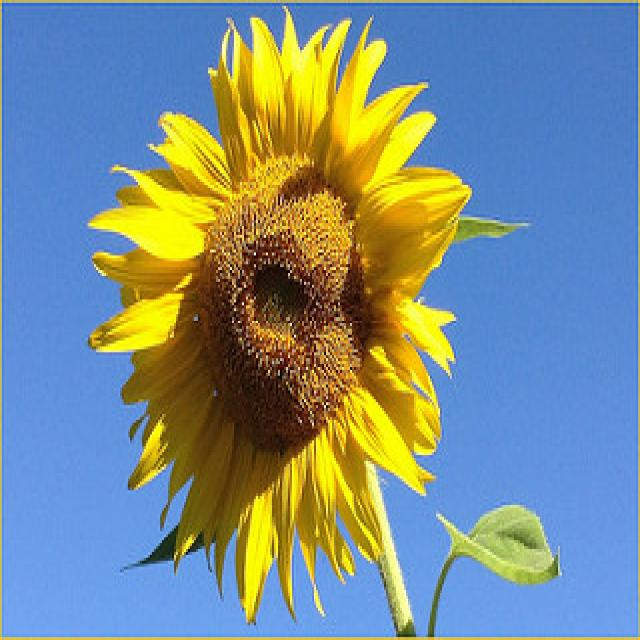sunflower: (83, 0, 477, 628)
